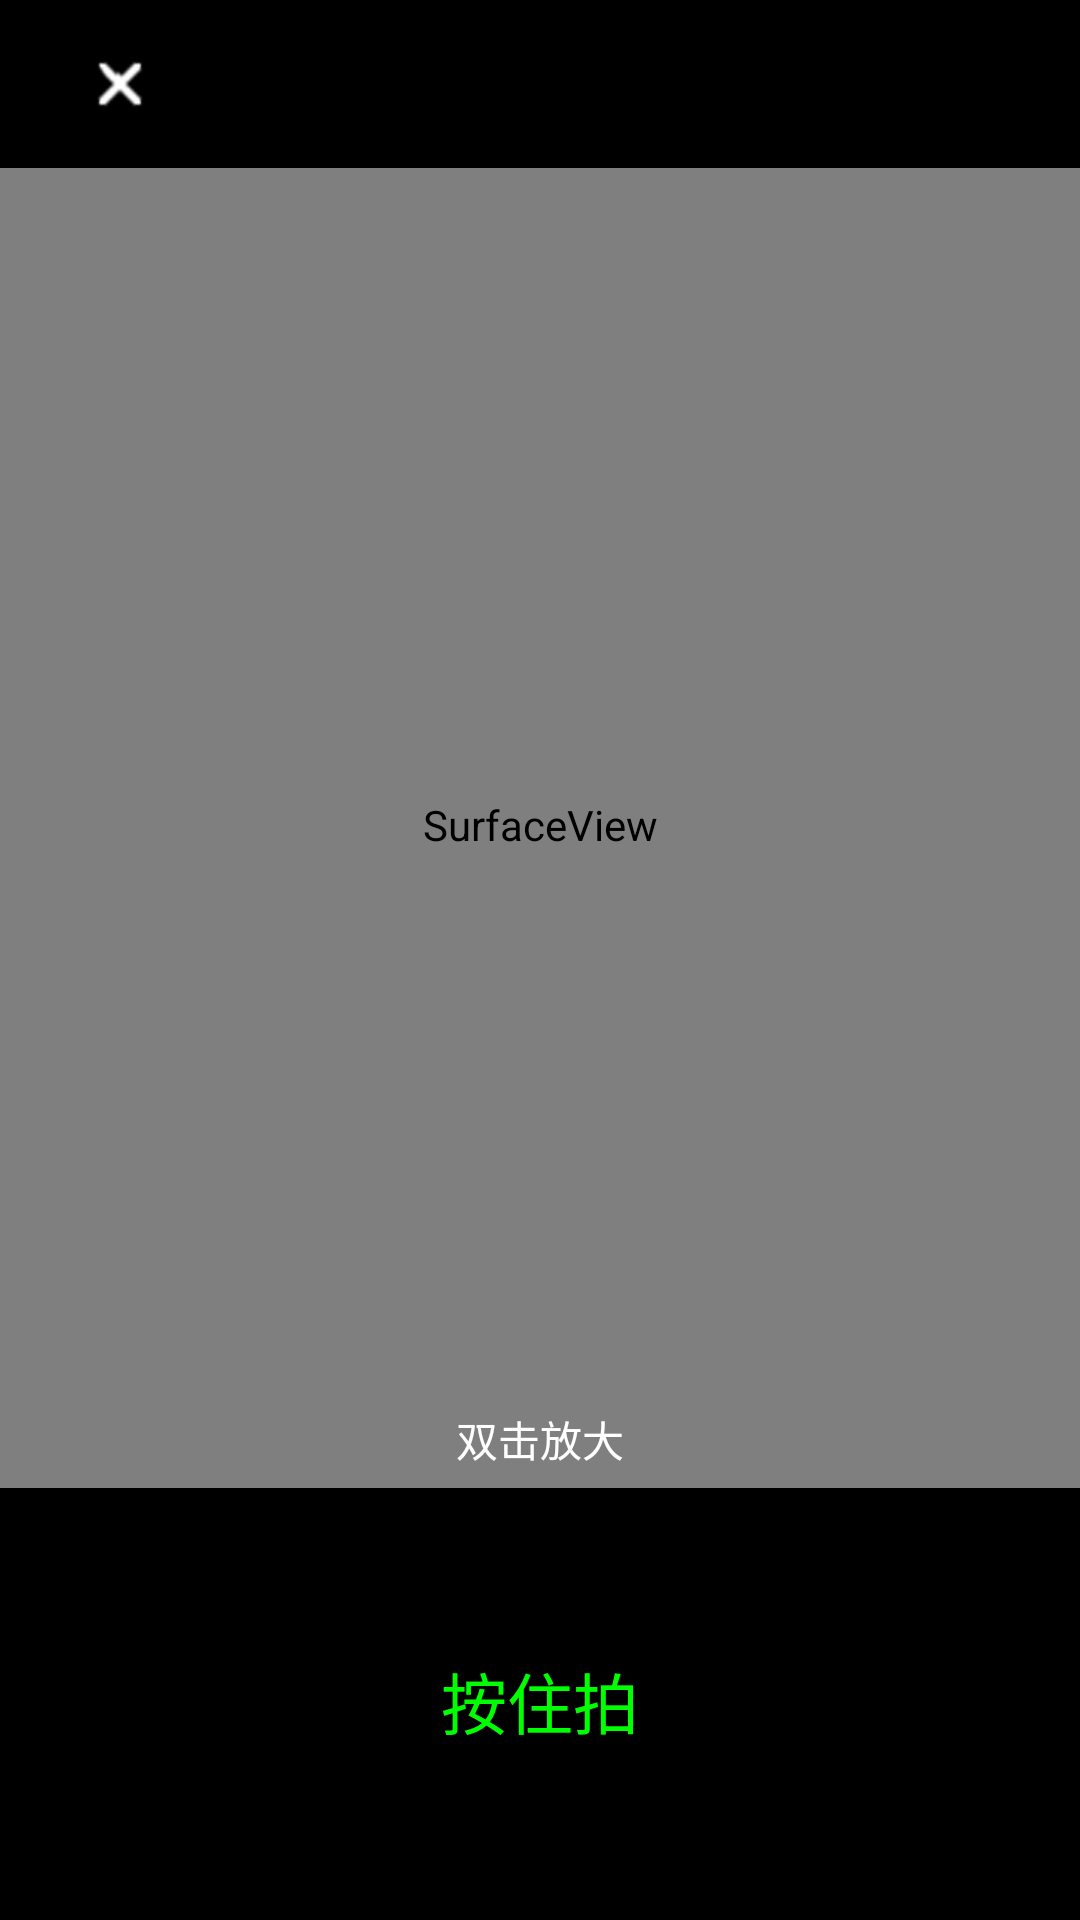

Icon bounding boxes for this 1080x1920 phone screenshot, format (x1,y1,x2,y2):
closen: (98,62,142,106)
